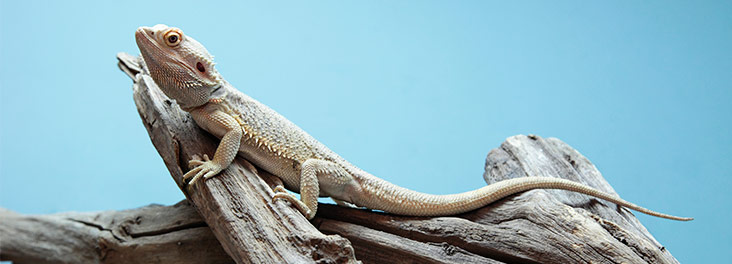bearded: (133, 20, 694, 232)
